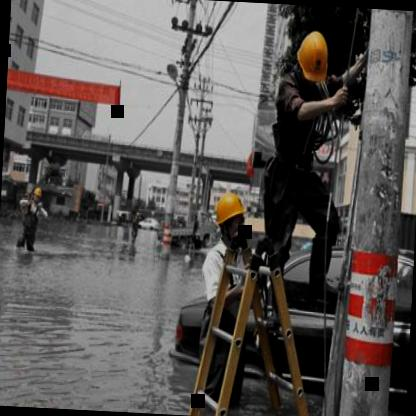helmet: (294, 26, 332, 88), (212, 188, 249, 247), (29, 182, 44, 204)
